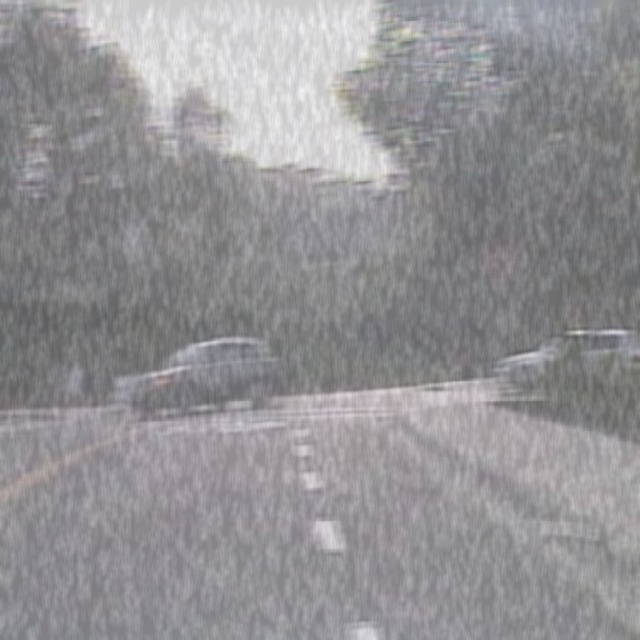stop: (483, 234, 523, 291)
